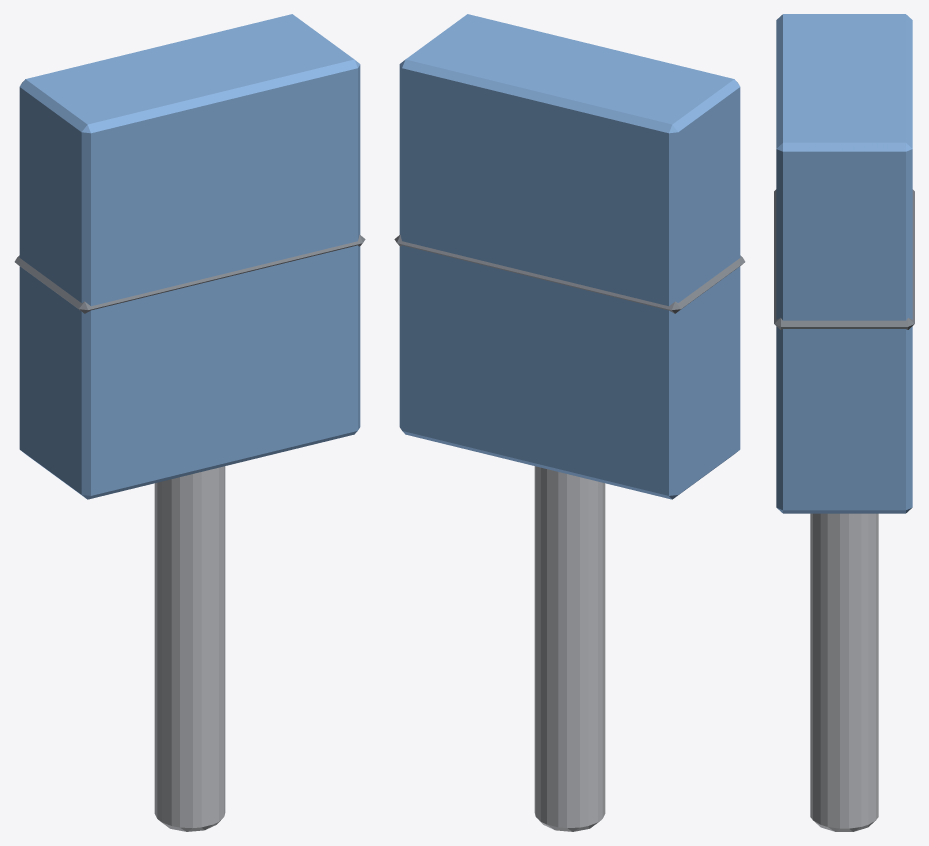
Rendered from 道具_配电箱_01.fbx.
3 renders of one model, left to right at view 1: azimuth 30°, elevation 25°; view 2: azimuth 150°, elevation 25°; view 3: azimuth 270°, elevation 25°, orthographic.
Parts seen in each view (by area): view 1: 箱体.004, 立杆.002, 门线; view 2: 箱体.004, 立杆.002, 门线; view 3: 箱体.004, 立杆.002, 门线.
Boxes of the visible parts, left/top/right/bottom form: 箱体.004: left=19, top=14, right=360, bottom=499; 立杆.002: left=154, top=466, right=225, bottom=831; 门线: left=14, top=235, right=365, bottom=313; 箱体.004: left=399, top=14, right=740, bottom=499; 立杆.002: left=534, top=466, right=605, bottom=831; 门线: left=394, top=235, right=745, bottom=313; 箱体.004: left=776, top=14, right=912, bottom=513; 立杆.002: left=810, top=513, right=878, bottom=831; 门线: left=774, top=189, right=914, bottom=329.
Bounding box in the file's own units: 72 × 180 × 31.
